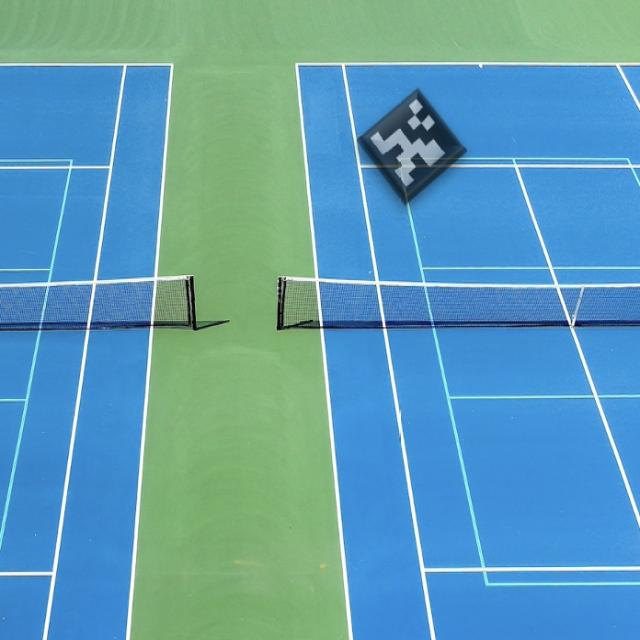marker: (352, 78, 472, 212)
